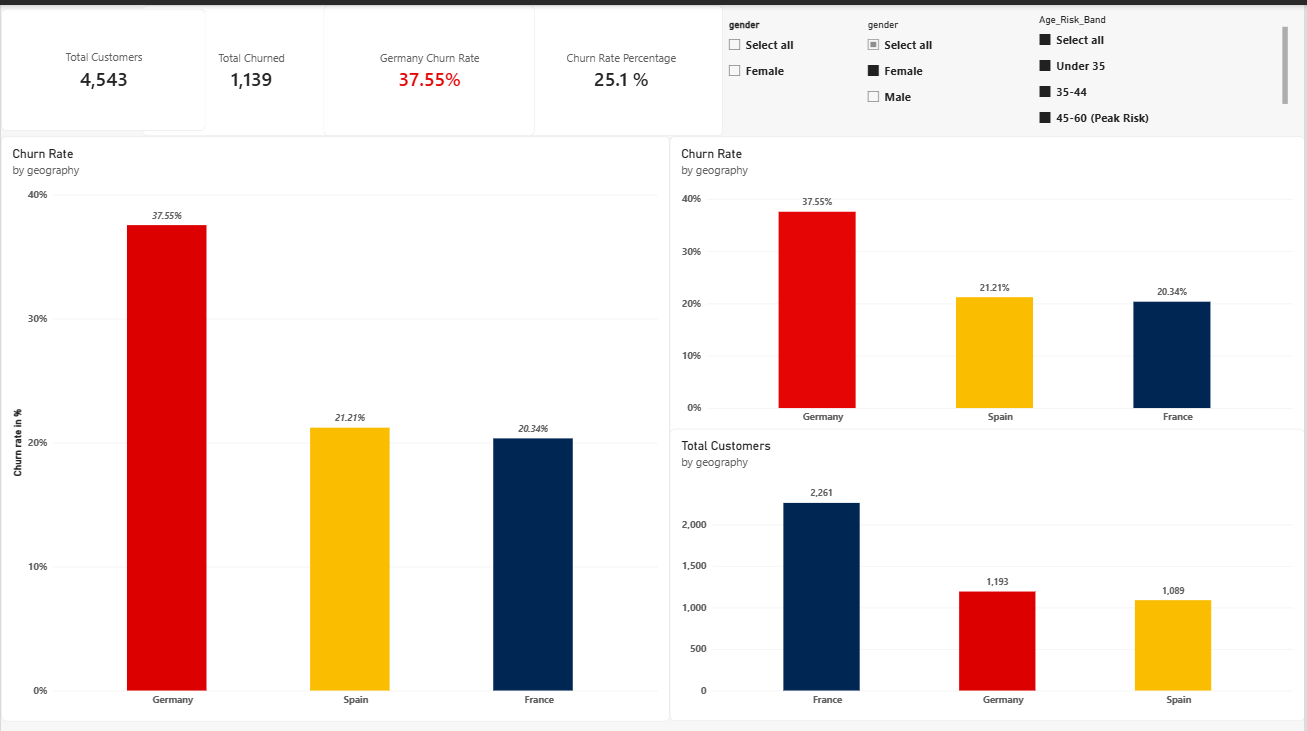

What the dashboard file says about the page in this screenshot:
{"tool":"powerbi","page":{"name":"Page 1","canvas":[1920,1080],"ordinal":3},"visuals":[{"type":"cardVisual","fields":{"Data":["Customers.Total Churned"]},"box":[208,0,320.2,193.3],"z":0},{"type":"cardVisual","fields":{"Data":["Customers.Total Customers"]},"box":[0,5.5,301.8,180.4],"z":1000},{"type":"cardVisual","fields":{"Data":["Customers.Churn Rate Percentage"]},"box":[762,0,301.8,193.3],"z":2000},{"type":"clusteredColumnChart","fields":{"Category":["Customers.geography"],"Y":["Customers.Churn Rate"]},"box":[0,193.3,984.7,861.4],"z":3000},{"type":"clusteredColumnChart","fields":{"Category":["Customers.geography"],"Y":["Customers.Churn Rate"]},"box":[984.7,193.3,935,445.4],"z":4000},{"type":"clusteredColumnChart","fields":{"Category":["Customers.geography"],"Y":["Customers.Total Customers"]},"box":[984.7,623.9,935,430.7],"z":5000},{"type":"slicer","fields":{"Values":["Customers.gender"]},"box":[1063.8,20.2,204.3,165.6],"z":6000},{"type":"cardVisual","fields":{"Data":["Customers.Germany Churn Rate"]},"box":[474.8,0,311,193.3],"z":7000},{"type":"slicer","fields":{"Values":["Customers.gender"]},"box":[1268.1,20.2,252.1,165.6],"z":8000},{"type":"slicer","fields":{"Values":["Customers.Age_Risk_Band"]},"box":[1520.3,12.9,374,166],"z":9000}]}

Visuals, with their boxes in screenshot pixels (x1, y1, x2, y2), scaled from the page's 1920x1080 canvas onto the 1307x731 screenshot:
cardVisual - Customers.Total Churned: locate(142, 0, 360, 131)
cardVisual - Customers.Total Customers: locate(0, 4, 205, 126)
cardVisual - Customers.Churn Rate Percentage: locate(519, 0, 724, 131)
clusteredColumnChart - Customers.geography x Customers.Churn Rate: locate(0, 131, 670, 714)
clusteredColumnChart - Customers.geography x Customers.Churn Rate: locate(670, 131, 1306, 432)
clusteredColumnChart - Customers.geography x Customers.Total Customers: locate(670, 422, 1306, 714)
slicer - Customers.gender: locate(724, 14, 863, 126)
cardVisual - Customers.Germany Churn Rate: locate(323, 0, 535, 131)
slicer - Customers.gender: locate(863, 14, 1035, 126)
slicer - Customers.Age_Risk_Band: locate(1035, 9, 1290, 121)
